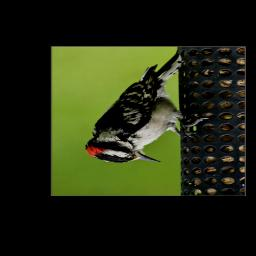Woodpecker: (86, 53, 205, 165)
